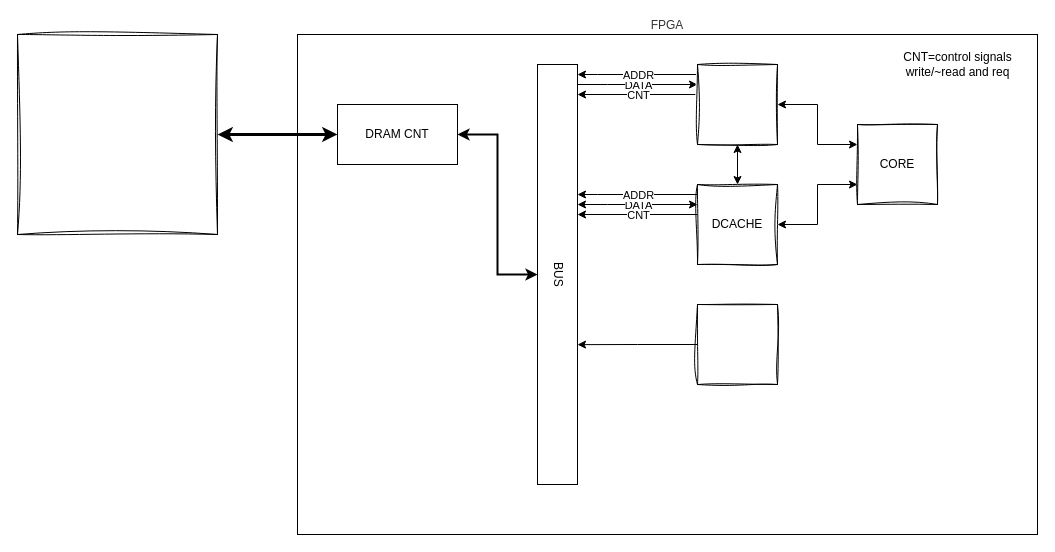
The diagram is 1055 pixels wide and 552 high, and some of its shapes have lost their labels. The shapes that lost their labels are listed below. From the top down, each one's box as (x1, y1, x2, y2) in pixels, then its label:
(696, 64, 778, 144): ICACHE
(16, 34, 218, 234): 2MB RAM
(696, 304, 778, 384): ROM
